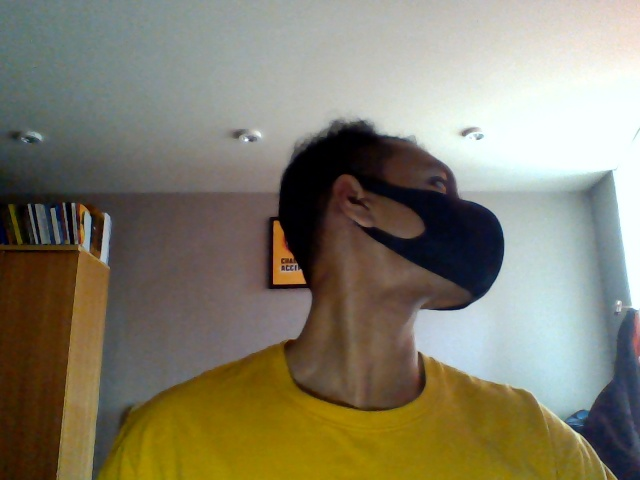mask: (361, 193, 507, 316)
